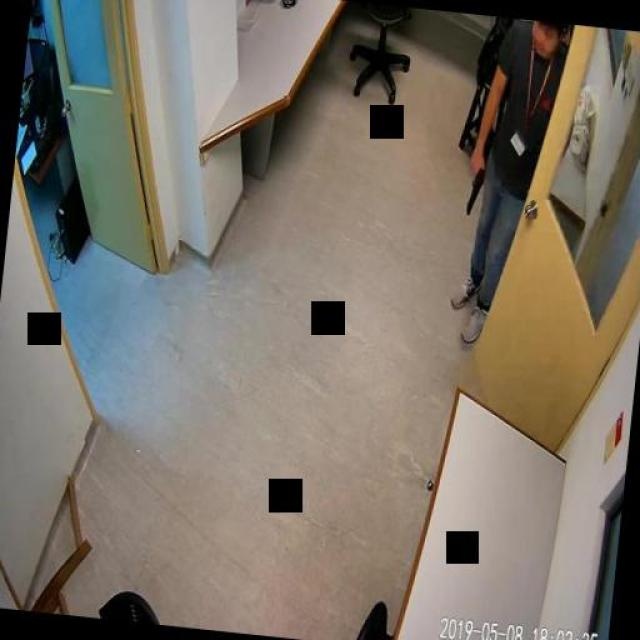gun: (465, 159, 486, 215)
